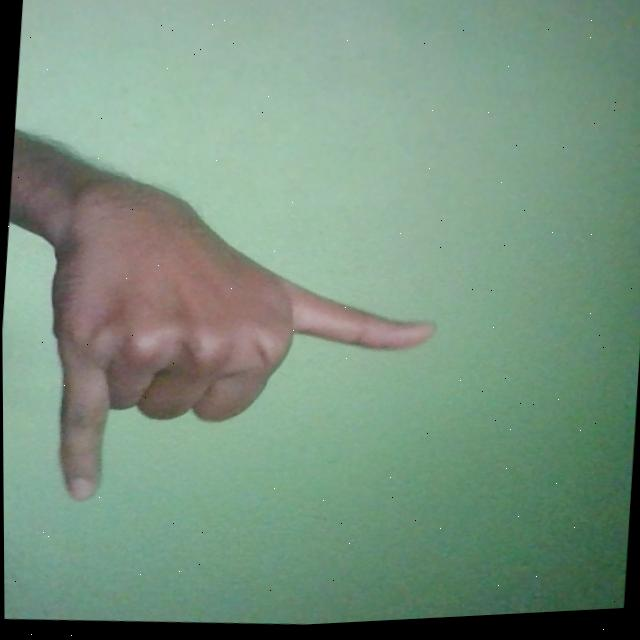Call Me: (32, 153, 446, 527)
